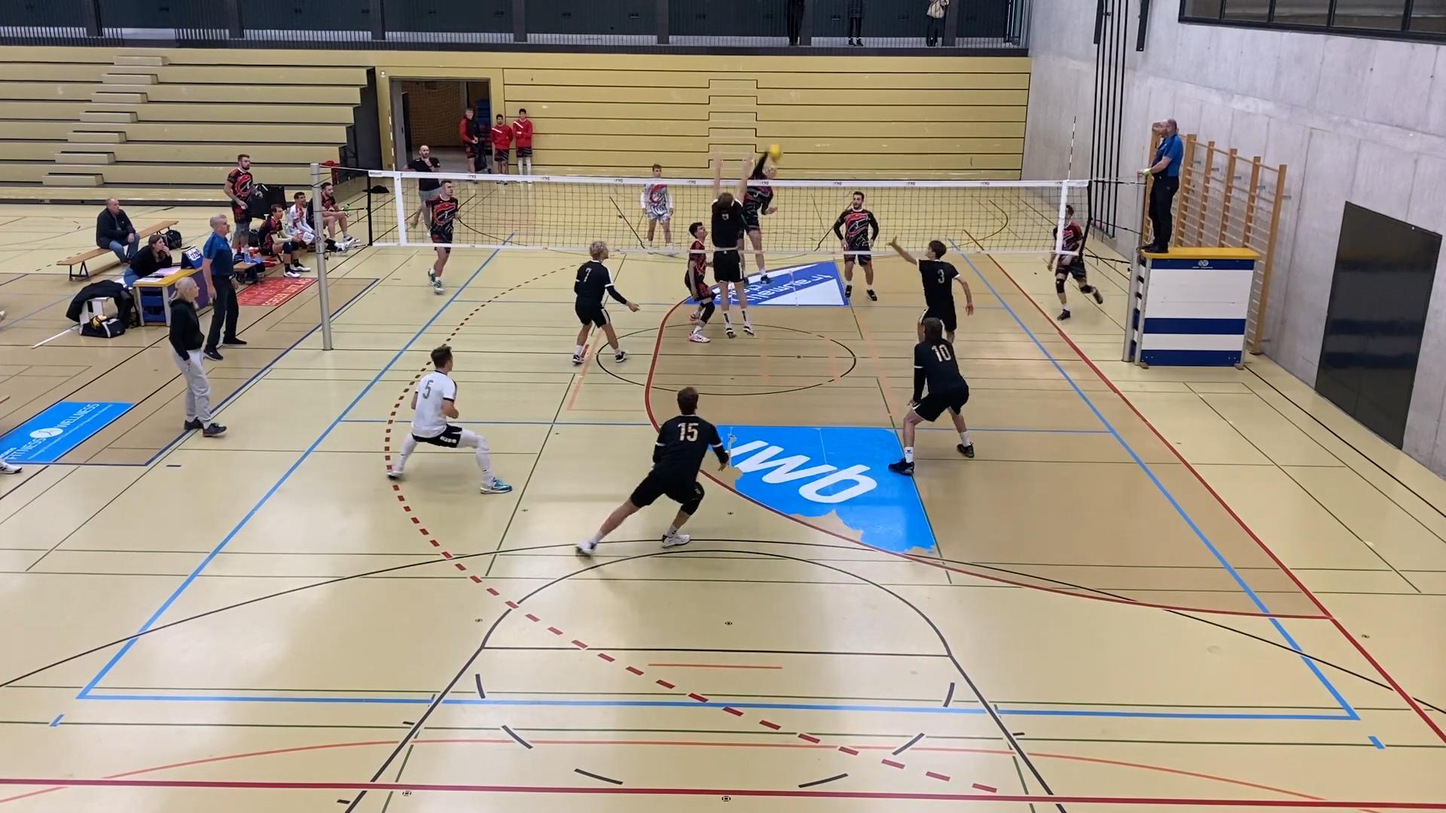Attack: (736, 142, 790, 292)
Block: (709, 151, 756, 339)
Player: (578, 387, 728, 555), (388, 345, 512, 493), (888, 317, 975, 475), (890, 238, 973, 342), (572, 240, 638, 364), (1047, 204, 1103, 320), (833, 190, 879, 300), (425, 181, 459, 294), (685, 222, 714, 343), (640, 163, 673, 248)
ball: (766, 146, 786, 160)
